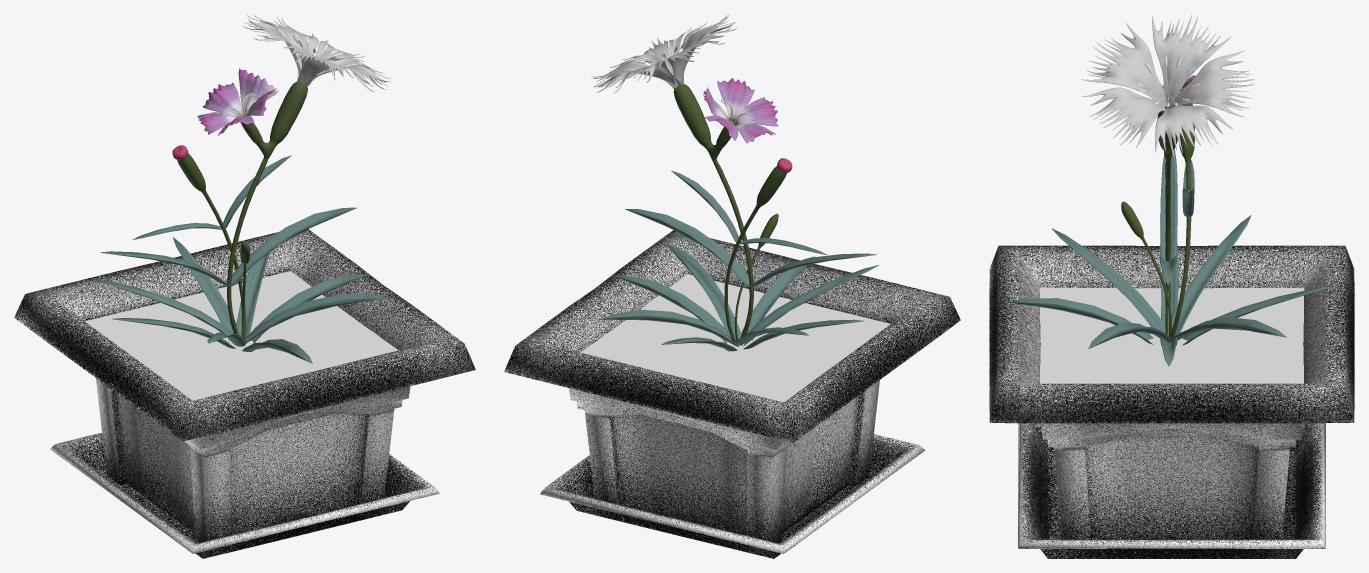
File: Gvozdika.fbx
3 views of the same model, side by side, from view 1: azimuth 30°, elevation 25°; view 2: azimuth 150°, elevation 25°; view 3: azimuth 270°, elevation 25° (orthographic). The views are drawn at different scales.
Parts seen in each view (by area): view 1: Gorshok_low, Earth, Cylinder.009, Podstavka_low, Plane.007, Cylinder, Cylinder.007, Plane.002, Plane, Plane.004, Plane.001, Plane.003; view 2: Gorshok_low, Earth, Cylinder.009, Podstavka_low, Plane.007, Cylinder, Cylinder.007, Plane.001, Plane, Plane.003, Plane.002, Plane.004; view 3: Gorshok_low, Earth, Podstavka_low, Cylinder.009, Plane.001, Plane.002, Plane, Plane.003, Plane.004, Cylinder, Cylinder.007, Cylinder.004 (+1 smaller).
Boxes of the visible parts, left/top/right/bottom form: Gorshok_low: left=14, top=229, right=475, bottom=542; Earth: left=85, top=271, right=398, bottom=400; Cylinder.009: left=94, top=155, right=388, bottom=363; Podstavka_low: left=50, top=432, right=439, bottom=558; Plane.007: left=197, top=68, right=278, bottom=135; Cylinder: left=227, top=81, right=307, bottom=334; Cylinder.007: left=177, top=153, right=246, bottom=341; Plane.002: left=284, top=45, right=353, bottom=85; Plane: left=253, top=14, right=318, bottom=81; Plane.004: left=307, top=40, right=384, bottom=86; Plane.001: left=242, top=15, right=302, bottom=84; Plane.003: left=302, top=65, right=390, bottom=91; Gorshok_low: left=504, top=230, right=960, bottom=543; Earth: left=581, top=274, right=890, bottom=402; Cylinder.009: left=601, top=170, right=878, bottom=351; Podstavka_low: left=540, top=434, right=925, bottom=558; Plane.007: left=703, top=78, right=778, bottom=143; Cylinder: left=673, top=83, right=753, bottom=345; Cylinder.007: left=724, top=166, right=786, bottom=343; Plane.001: left=667, top=28, right=730, bottom=88; Plane: left=599, top=60, right=682, bottom=93; Plane.003: left=622, top=27, right=691, bottom=88; Plane.002: left=681, top=15, right=737, bottom=84; Plane.004: left=591, top=59, right=676, bottom=92; Gorshok_low: left=989, top=245, right=1354, bottom=539; Earth: left=1039, top=287, right=1304, bottom=383; Podstavka_low: left=1018, top=423, right=1325, bottom=558; Cylinder.009: left=1009, top=148, right=1327, bottom=366; Plane.001: left=1152, top=15, right=1231, bottom=105; Plane.002: left=1081, top=23, right=1166, bottom=112; Plane: left=1171, top=50, right=1254, bottom=117; Plane.003: left=1082, top=87, right=1165, bottom=148; Plane.004: left=1155, top=105, right=1233, bottom=157; Cylinder: left=1157, top=105, right=1177, bottom=335; Cylinder.007: left=1169, top=103, right=1194, bottom=338; Cylinder.004: left=1121, top=201, right=1171, bottom=336.
Size of the model in its own units: 59.37 by 89.58 by 59.37.
